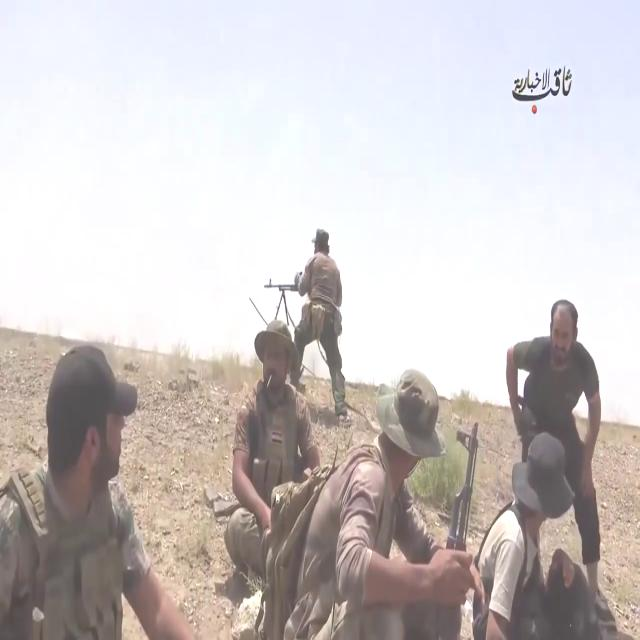long weapon: (436, 387, 488, 639)
